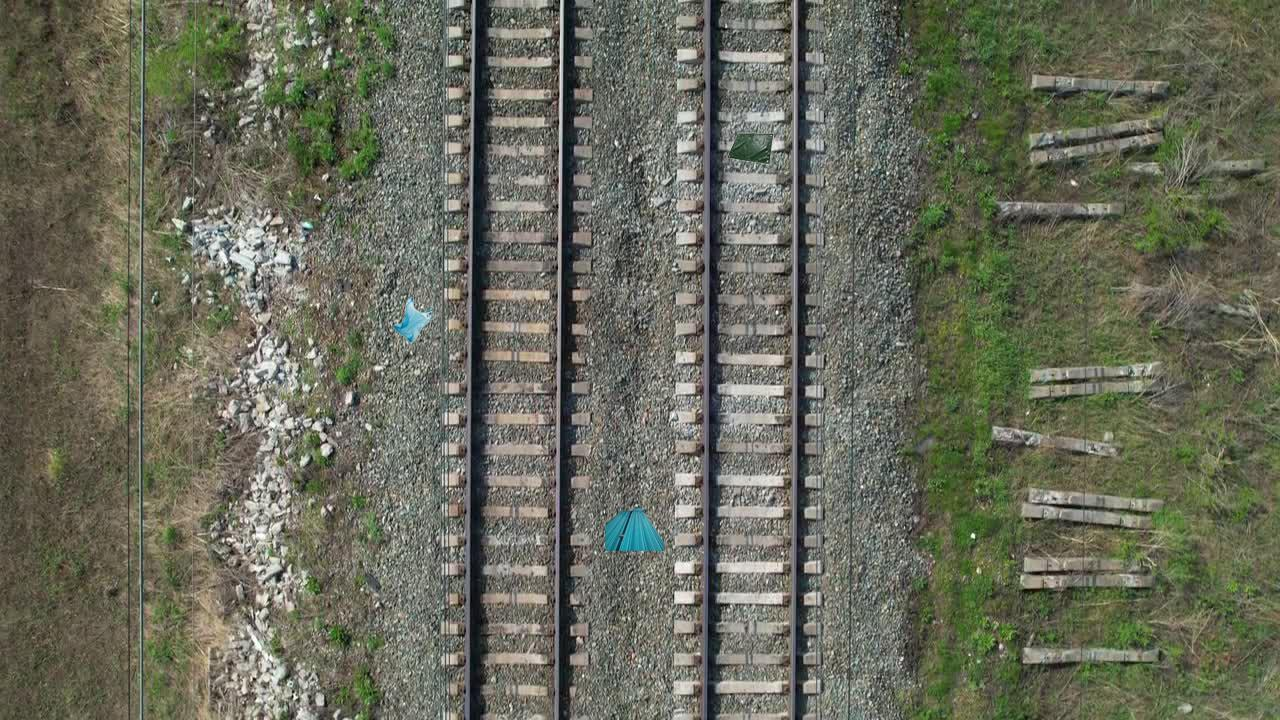Color_steel: (597, 507, 664, 557)
Dust_screen: (729, 124, 777, 176)
Plastic: (381, 293, 434, 353)
